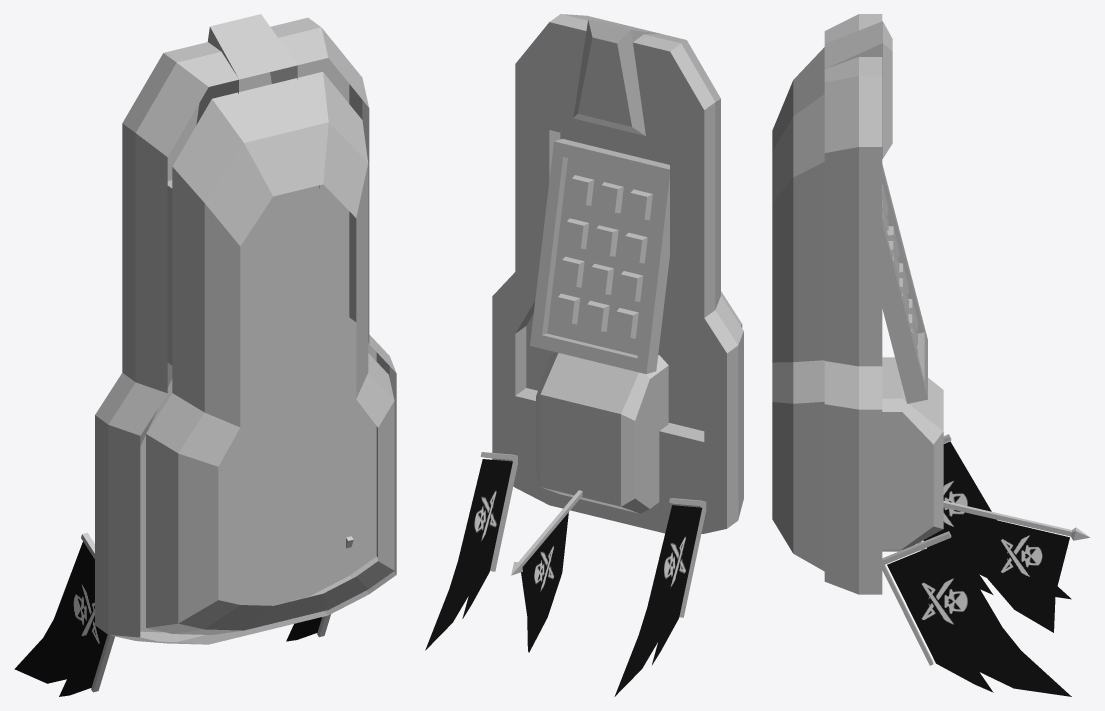
The model's file is pirate_multi_my_0.fbx.
3 views of the same model, side by side, from view 1: azimuth 30°, elevation 25°; view 2: azimuth 150°, elevation 25°; view 3: azimuth 270°, elevation 25° (orthographic). The views are drawn at different scales.
Visible parts, largest first — view 1: Cube.352; view 2: Cube.352; view 3: Cube.352.
Boxes of the visible parts, <box> form: Cube.352: <box>14,14,396,696</box>; Cube.352: <box>425,14,743,696</box>; Cube.352: <box>772,14,1089,696</box>.
Size of the model in its own units: 295 by 700 by 328.
